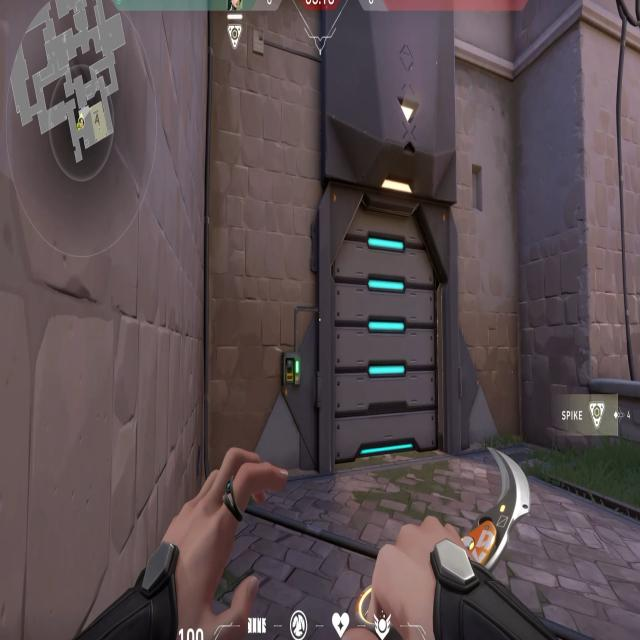A_Door: (312, 146, 475, 499)
